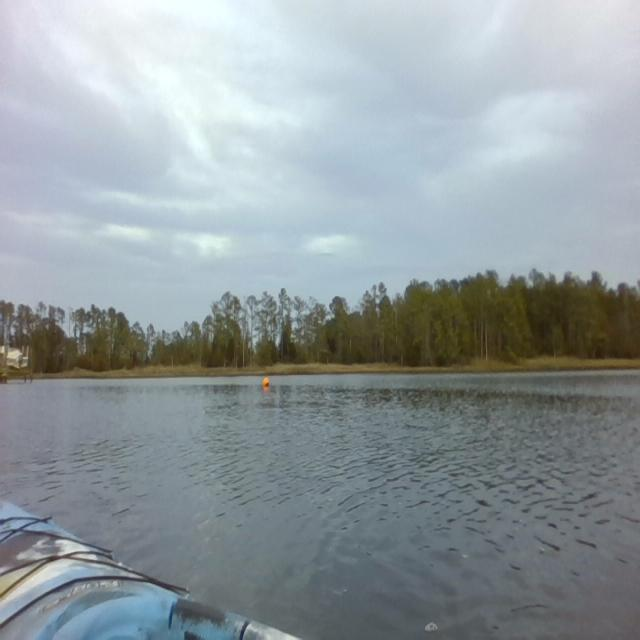Buoy: (262, 374, 270, 391)
